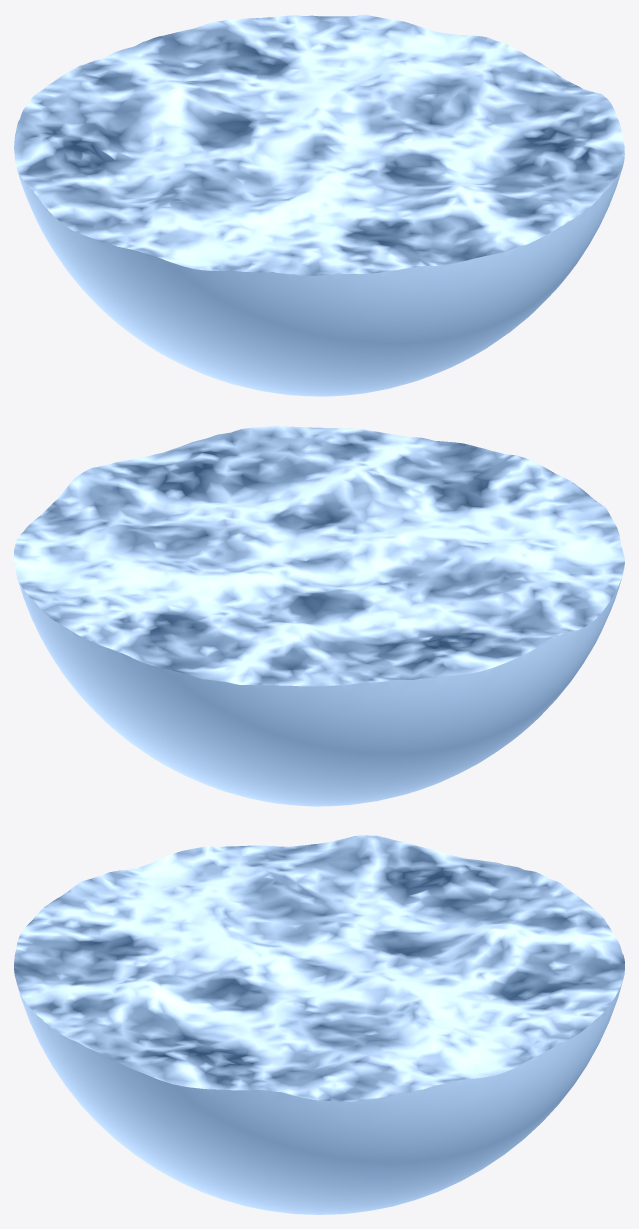
File: water.fbx
3 renders of one model, top to bottom at view 1: azimuth 30°, elevation 25°; view 2: azimuth 150°, elevation 25°; view 3: azimuth 270°, elevation 25°, orthographic.
Parts seen in each view (by area): view 1: Ocean 2; view 2: Ocean 2; view 3: Ocean 2.
Part boxes in pixels (x1,y1,x2,y2): Ocean 2: [14, 14, 624, 396]; Ocean 2: [14, 425, 624, 806]; Ocean 2: [14, 835, 624, 1214].
Size of the model in its own units: 1664 by 693 by 1670.
